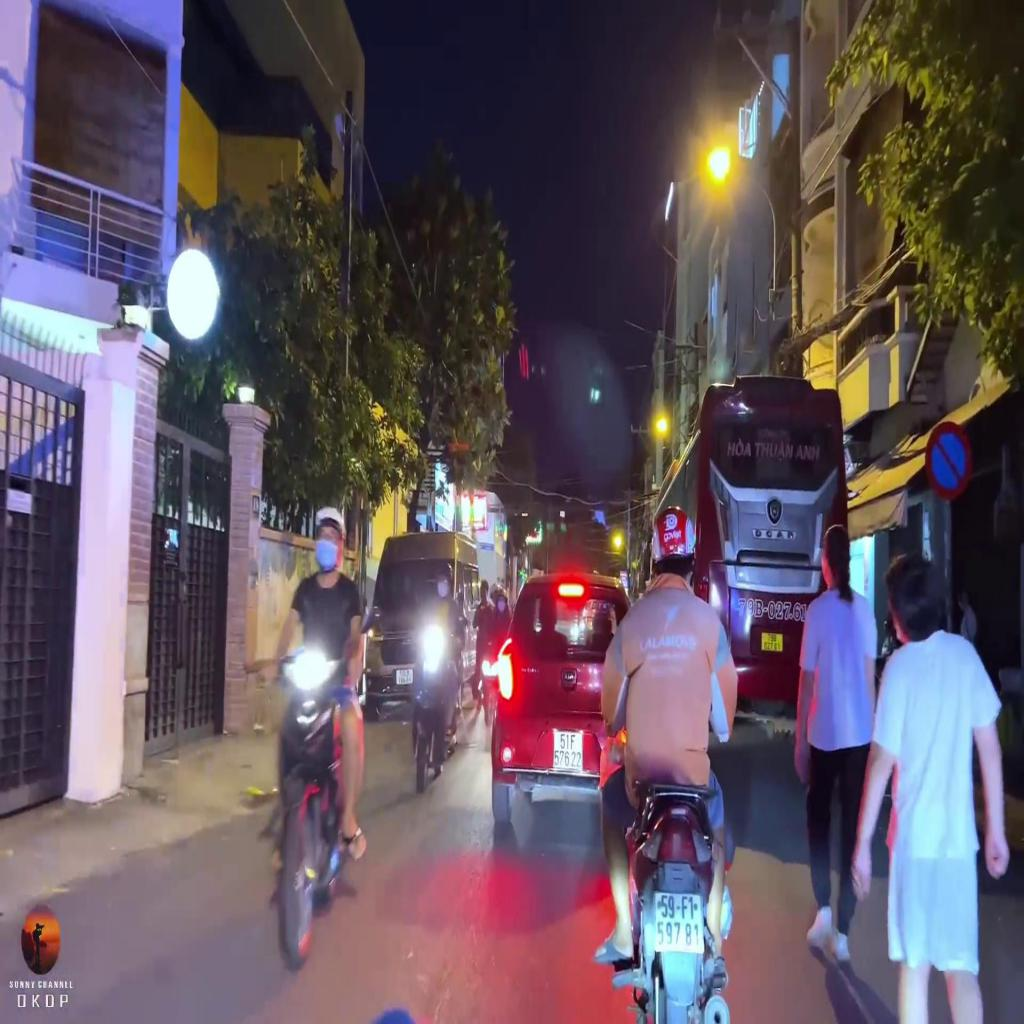cam_do_xe: (924, 419, 972, 503)
